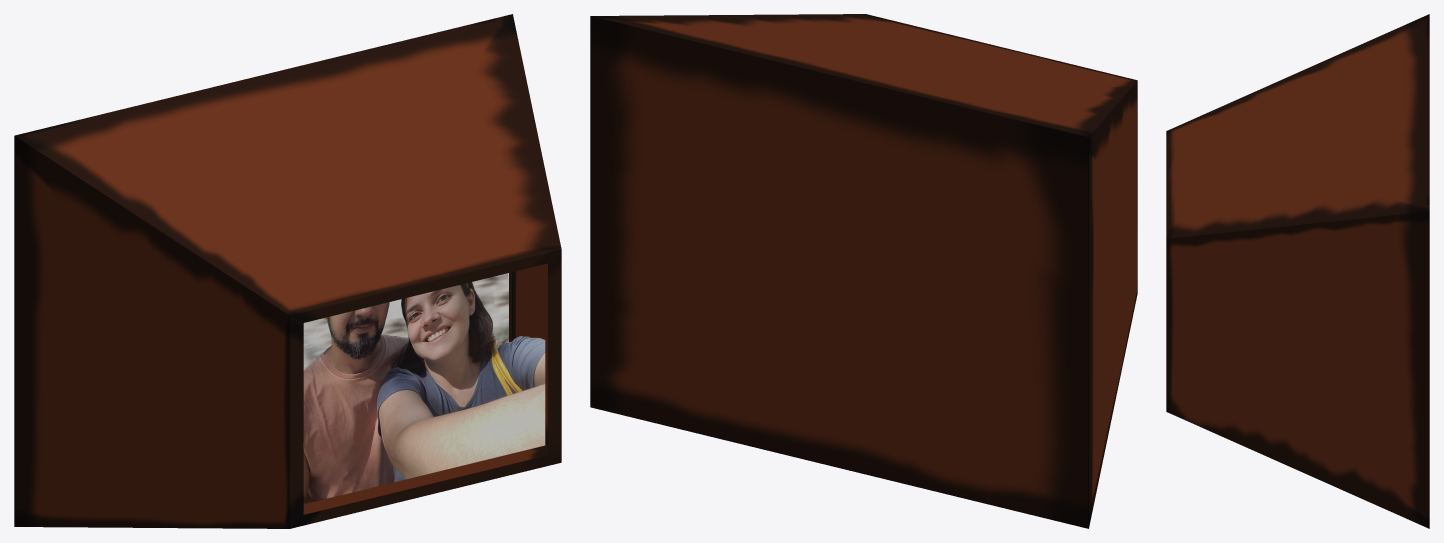
The model's file is monóculo.glb.
3 views of the same model, side by side, from view 1: azimuth 30°, elevation 25°; view 2: azimuth 150°, elevation 25°; view 3: azimuth 270°, elevation 25° (orthographic). The views are drawn at different scales.
Parts seen in each view (by area): view 1: caixa, foreground, background; view 2: caixa; view 3: caixa.
Boxes of the visible parts, <box> form: caixa: <box>14,14,561,528</box>; foreground: <box>303,282,545,504</box>; background: <box>303,273,508,370</box>; caixa: <box>590,14,1137,528</box>; caixa: <box>1166,14,1429,528</box>.
Size of the model in its own units: 35.7 by 26.77 by 20.11.
3 materials, 3 textured.
